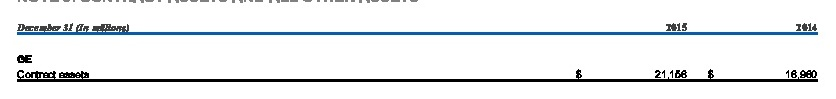table: (0, 0, 836, 99)
